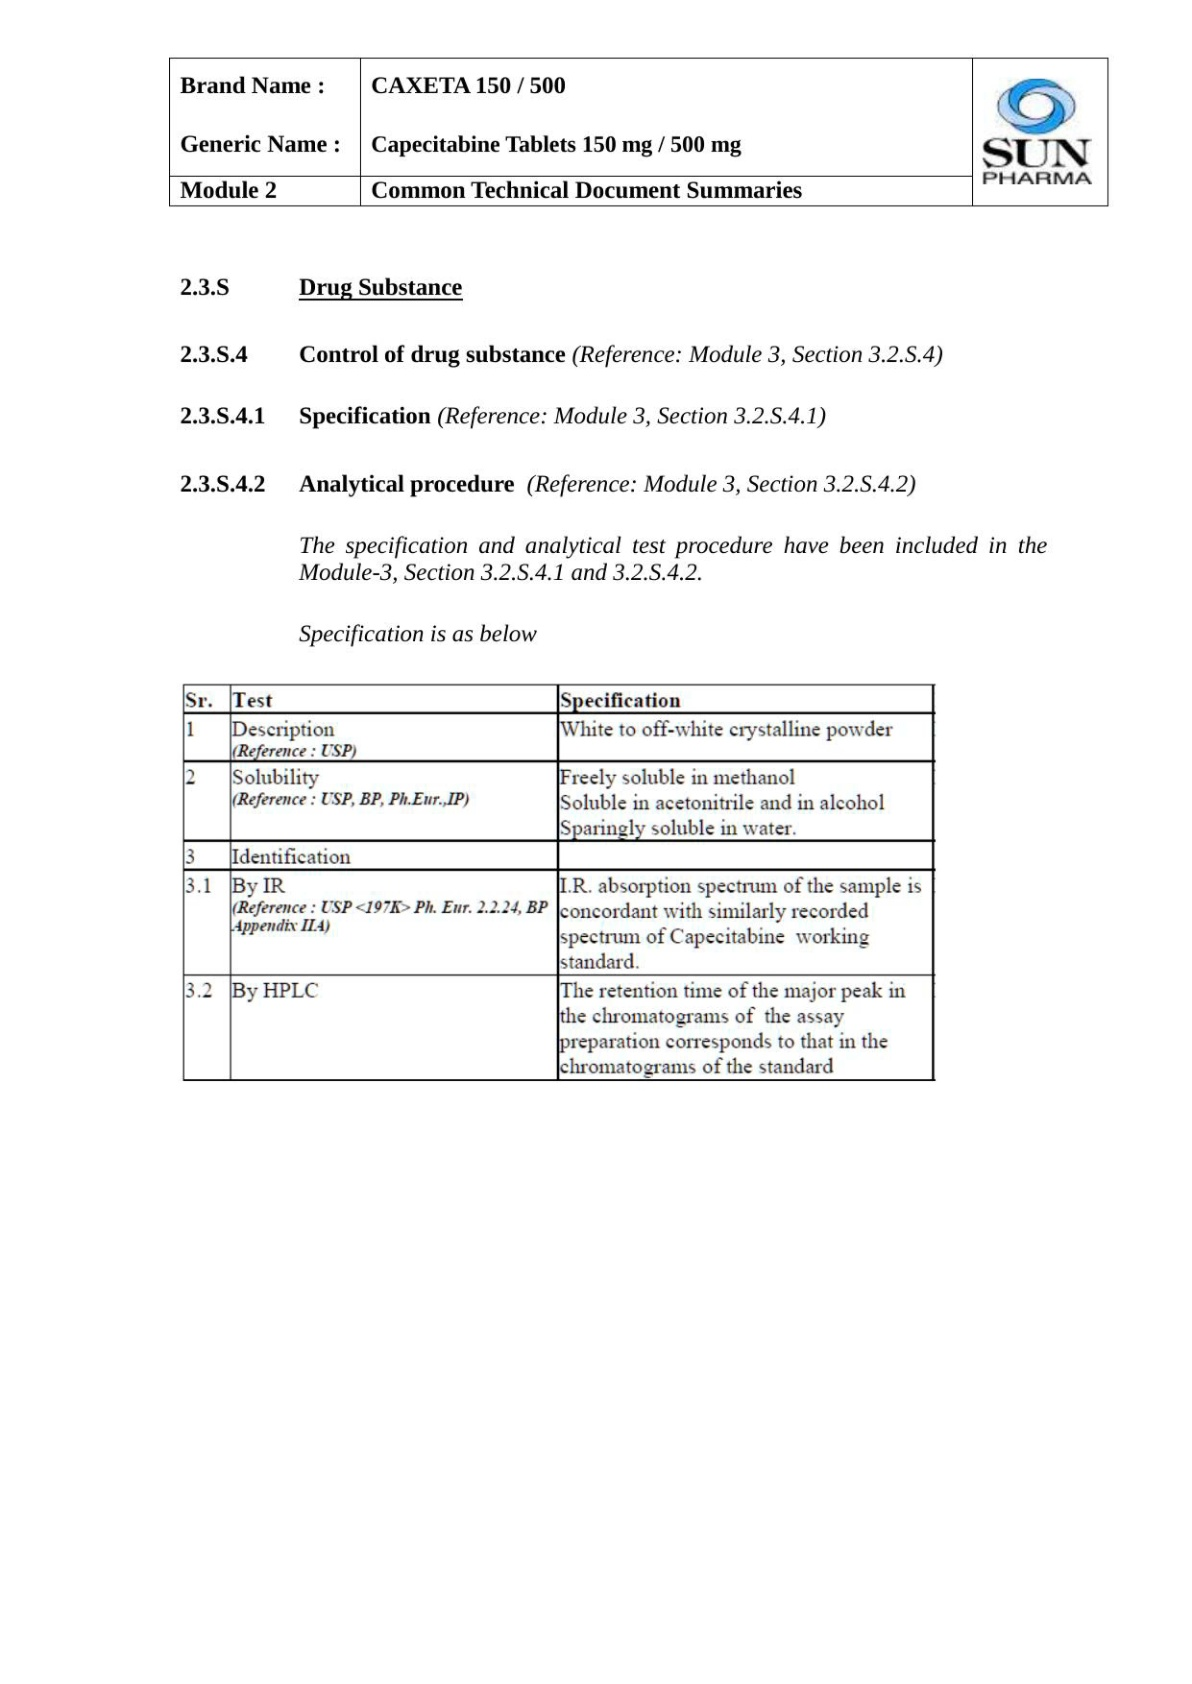full_lined: (181, 683, 934, 1081)
merged_cells: (168, 55, 1109, 208)
